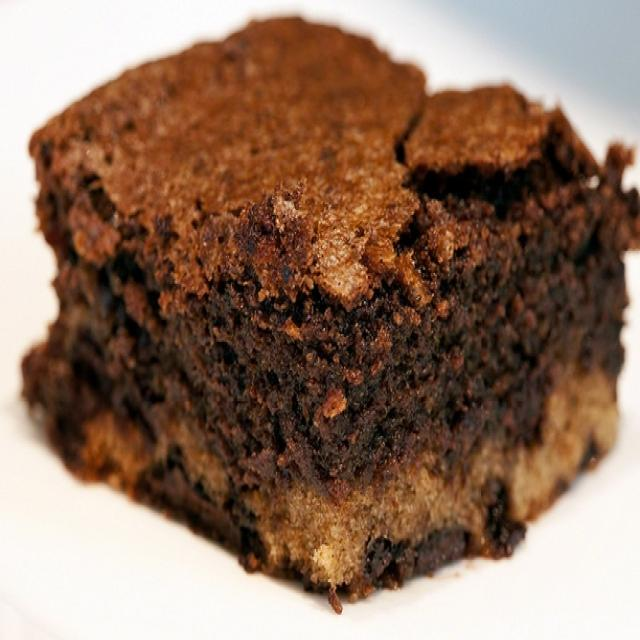蛋糕甜品: (9, 17, 600, 596)
